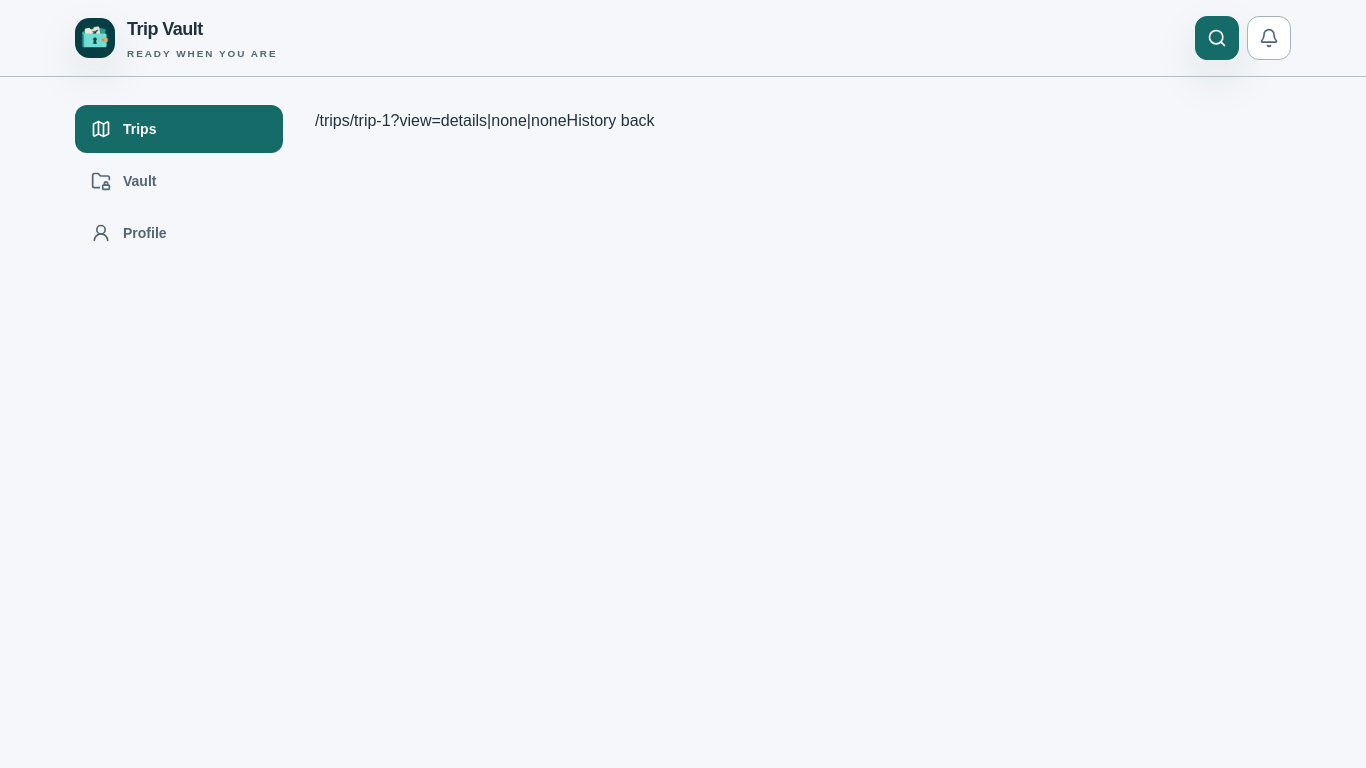
Test case: trip header search › opens active notifications in a modal without leaving the current trip
Click the button named "Alerts" at point(1269, 38), box [1247,16,1291,60]
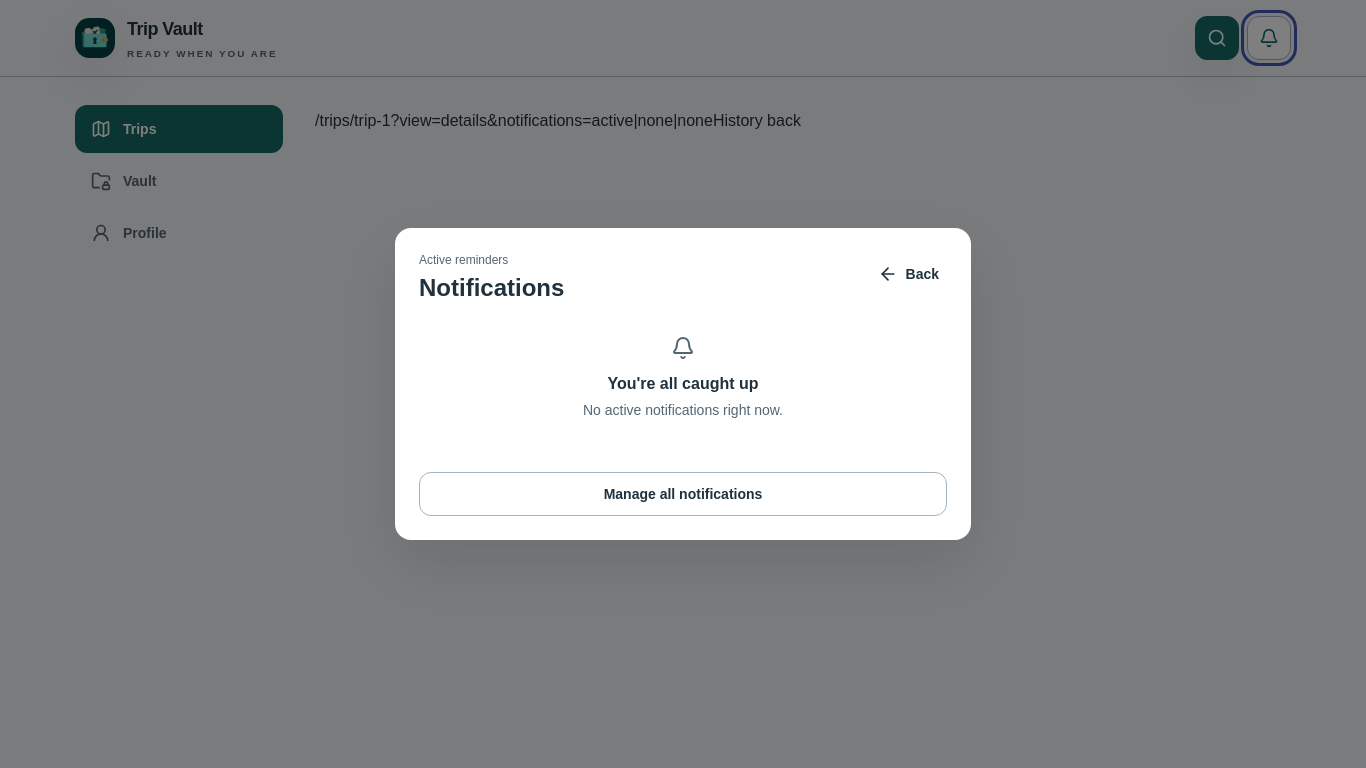
Check: the dialog "Notifications" is shown, box [395,228,971,540]
Check: the text "No active notifications right now." is shown, box [583,402,783,418]
Check: the text named "location" shows "/trips/trip-1?view=details&notifications=active", box [315,112,713,129]
Click the button "Back" at point(908, 274), box [870,252,947,296]
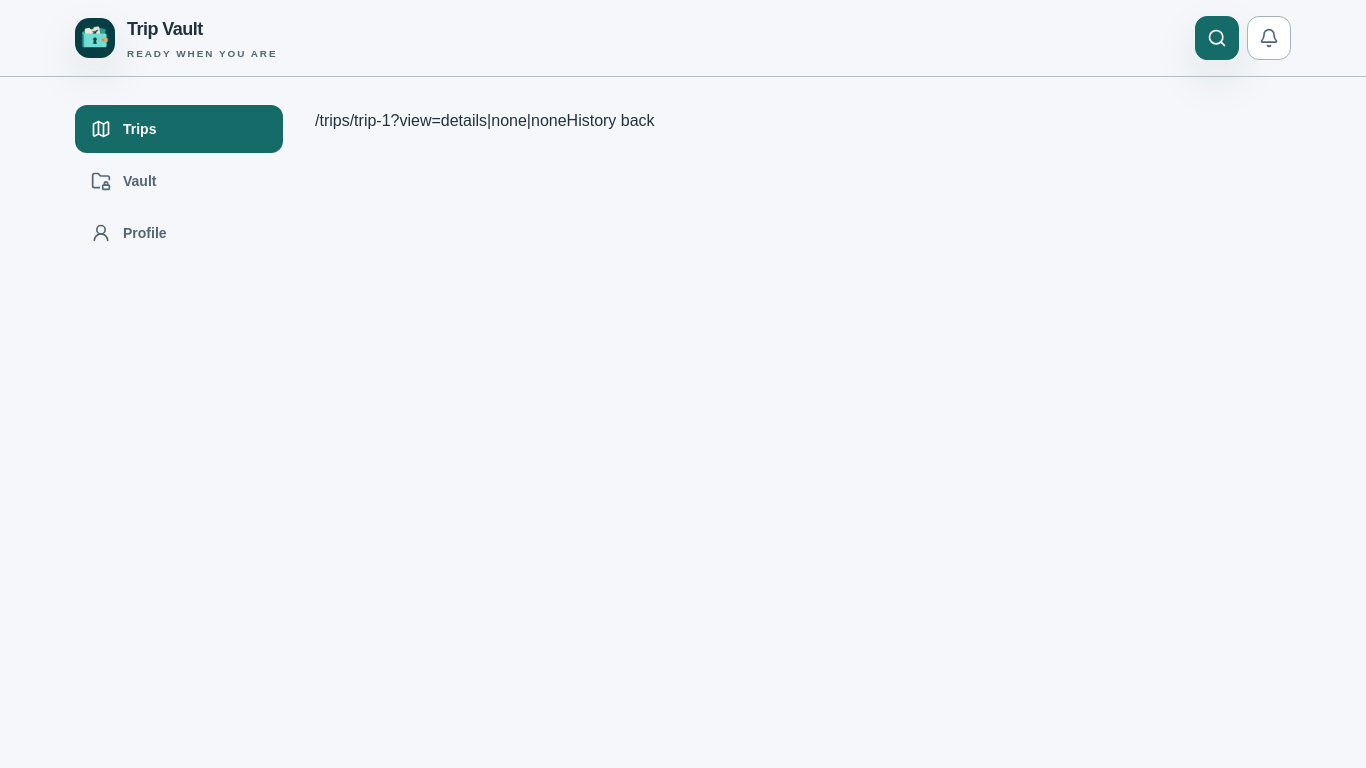
Check: the dialog is gone
Check: the text named "location" reads "/trips/trip-1?view=details|none|none", box [315,112,567,129]
